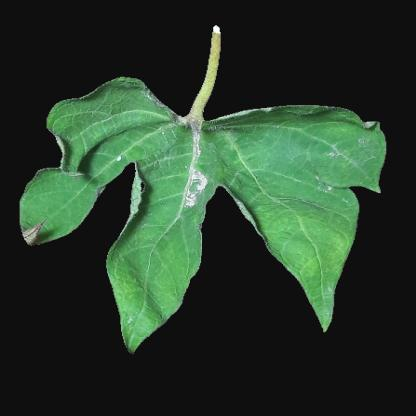curl_stage2: (274, 131, 372, 187), (151, 127, 215, 205), (276, 205, 348, 261), (89, 93, 141, 164)
healthy: (118, 239, 196, 295)
